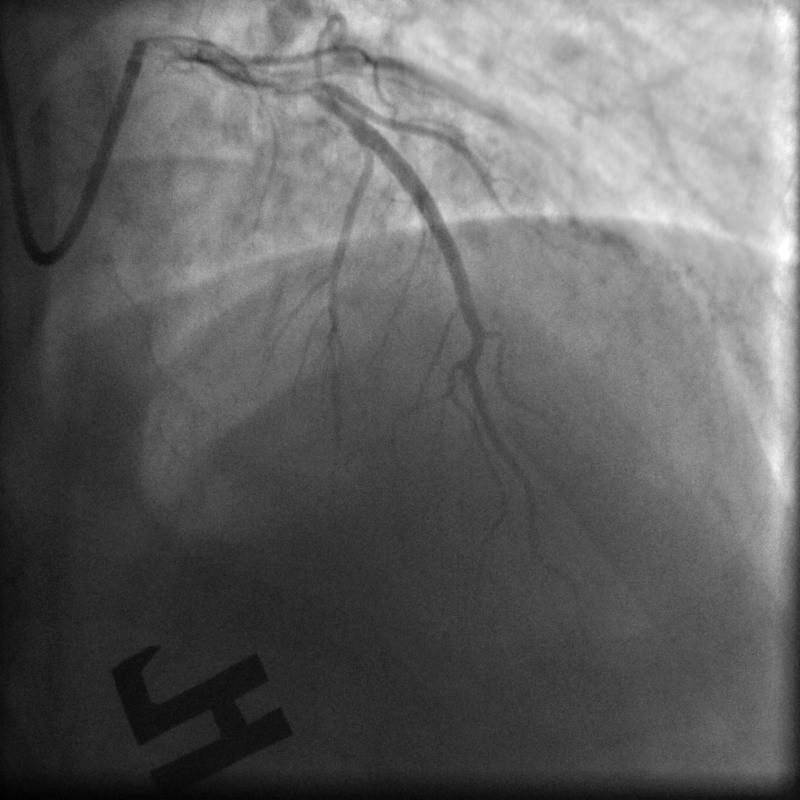Stenosis: (255, 71, 322, 100)
